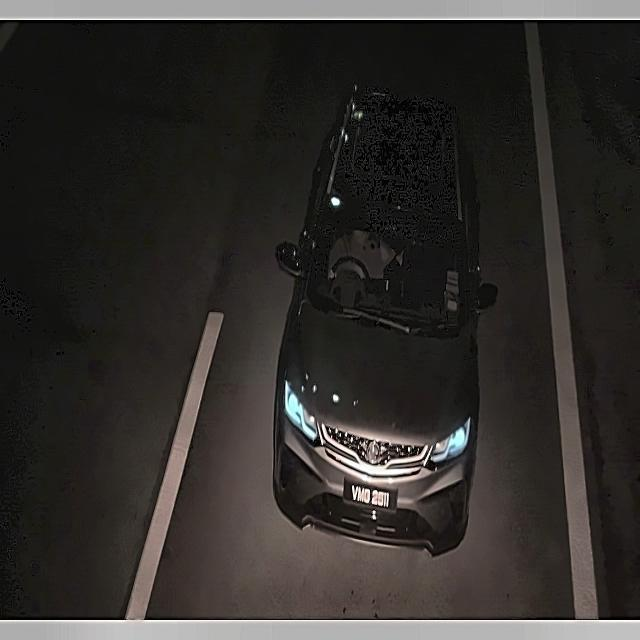car: (340, 468, 406, 520)
